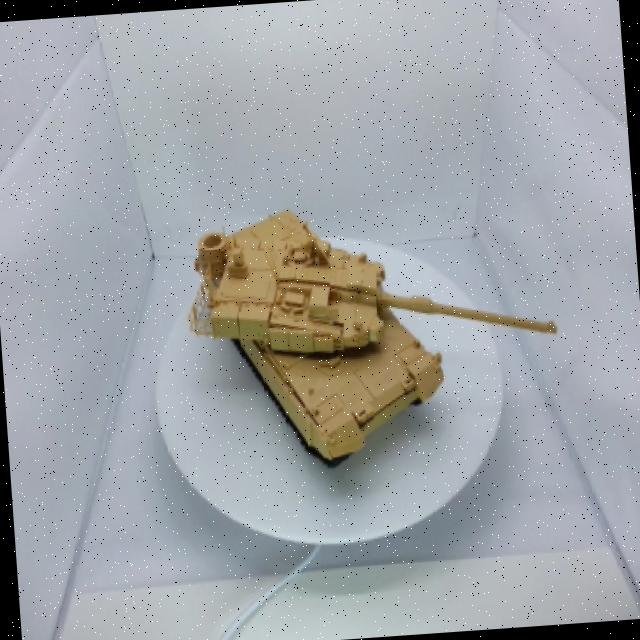korea tank: (165, 162, 578, 500)
